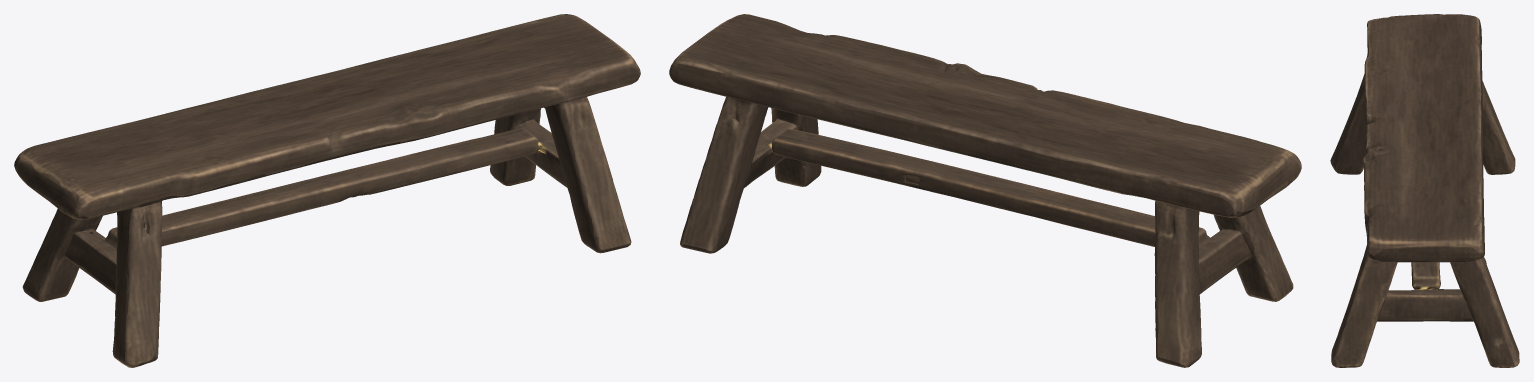
The model's file is bench.glb.
3 views of the same model, side by side, from view 1: azimuth 30°, elevation 25°; view 2: azimuth 150°, elevation 25°; view 3: azimuth 270°, elevation 25° (orthographic). The views are drawn at different scales.
Visible parts, largest first — view 1: world; view 2: world; view 3: world.
Part boxes in pixels (x1=…): world: x1=14, y1=14, x2=640, y2=367; world: x1=669, y1=14, x2=1301, y2=367; world: x1=1330, y1=14, x2=1519, y2=367.
Size of the model in its own units: 1 by 0.2858 by 0.3451.
Materials: 1 (1 with a texture image).
